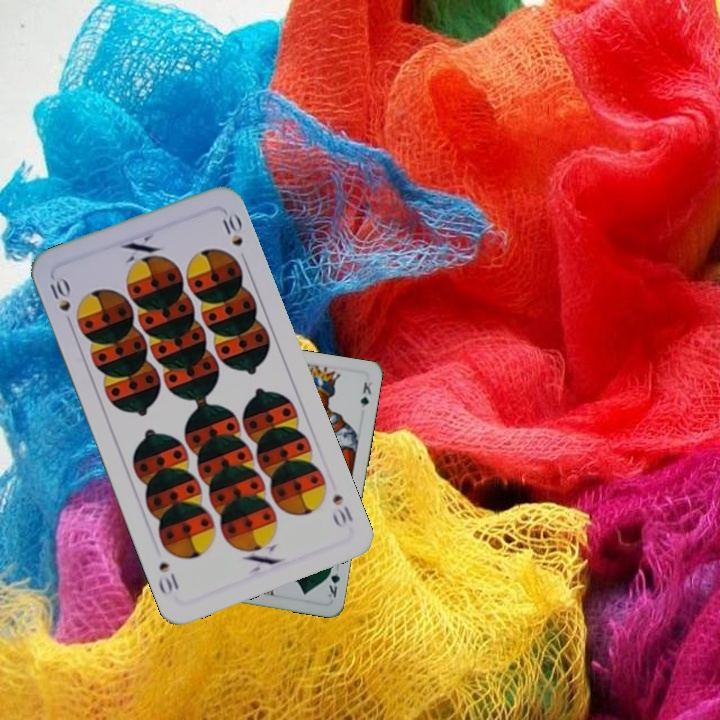GK: (323, 561, 342, 600)
S10: (46, 272, 76, 329), (328, 490, 356, 530)
